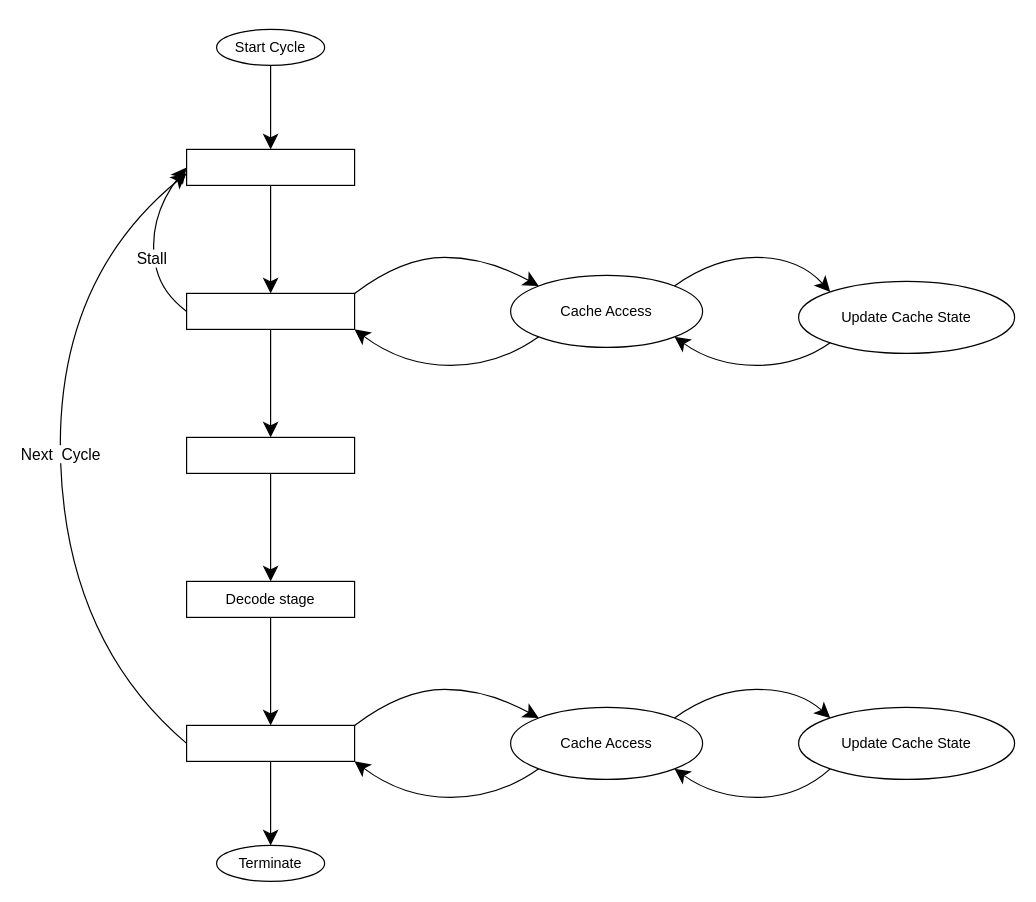
Image size: 1036x902. Some labels were removed from this diagram. The shapes that lost their labels are listed below. From the top down, each one's centre as x and y in pixels, then its label:
At pixel 270 166: "Write Back Stage".
At pixel 270 310: "Memory Access Stage".
At pixel 270 454: "Execute Stage".
At pixel 270 742: "Instruction Fetch Stage".
